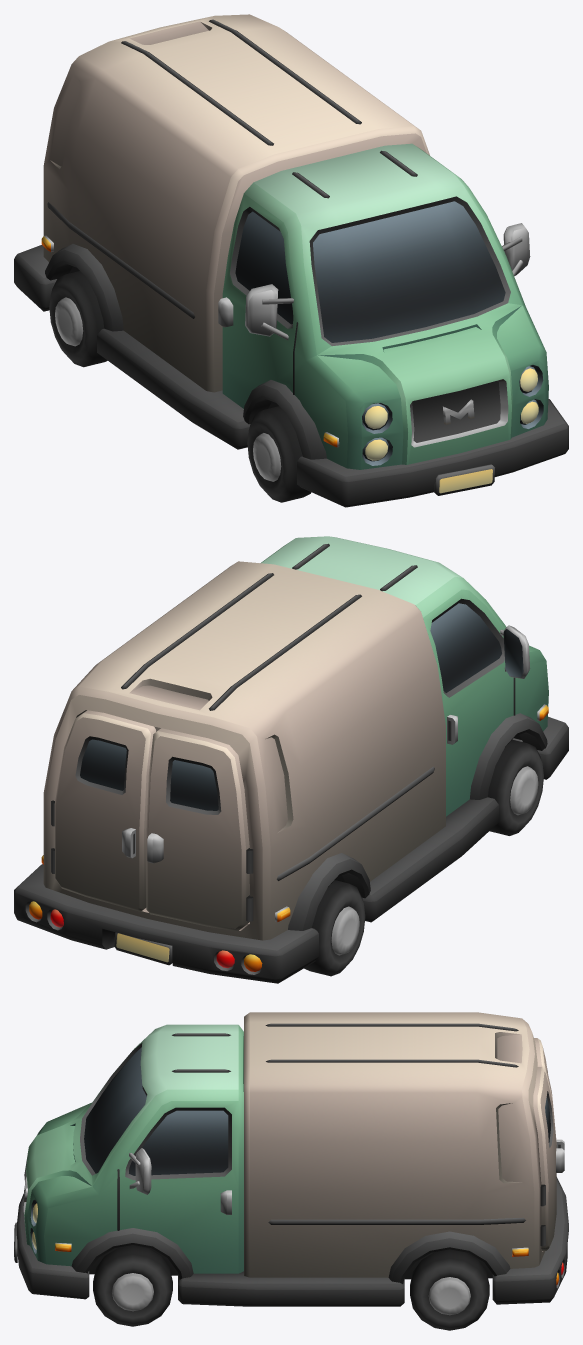
File: VHC0110015.FBX
3 renders of one model, top to bottom at view 1: azimuth 30°, elevation 25°; view 2: azimuth 150°, elevation 25°; view 3: azimuth 270°, elevation 25°, orthographic. The views are drawn at different scales.
Visible parts, largest first — view 1: smVHC0110015; view 2: smVHC0110015; view 3: smVHC0110015.
Boxes of the visible parts, x1,y1,x2,y2 form: smVHC0110015: [14, 14, 568, 507]; smVHC0110015: [14, 536, 568, 983]; smVHC0110015: [14, 1012, 568, 1330].
Bounding box in the file's own units: 2.76 × 2.59 × 5.56.
Materials: 1 (1 with a texture image).
